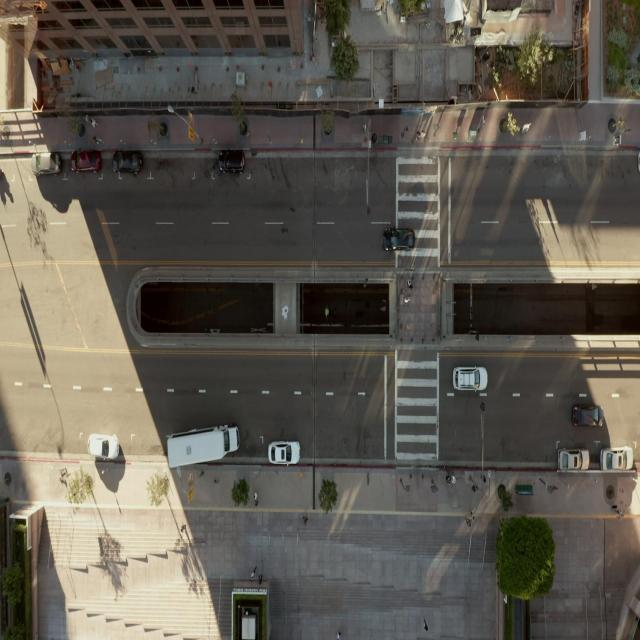Bus: (166, 423, 240, 467)
Car: (86, 431, 122, 463), (452, 365, 488, 392), (600, 446, 634, 471), (268, 440, 300, 466), (383, 228, 415, 252), (112, 151, 143, 175), (571, 404, 603, 427), (558, 447, 588, 471), (70, 150, 101, 173), (31, 153, 61, 176), (218, 150, 246, 173)
